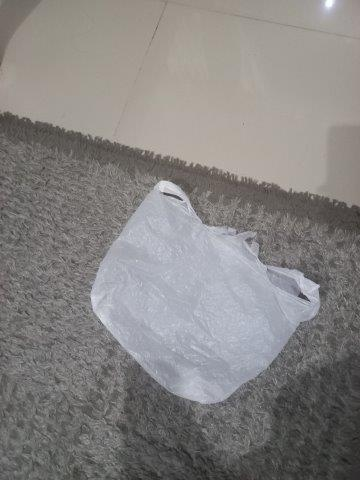plastik: (90, 179, 322, 403)
